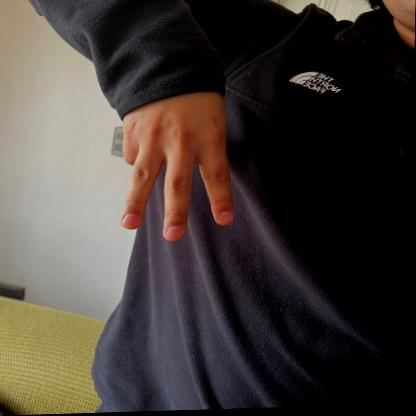M: (109, 57, 242, 244)
